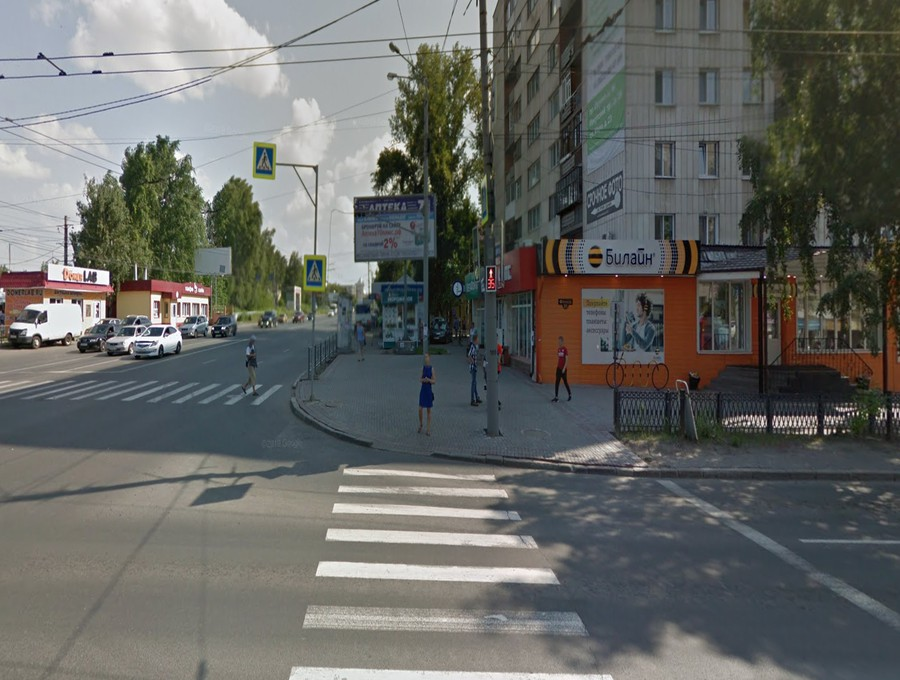Traffic Light-red: (478, 262, 504, 301)
